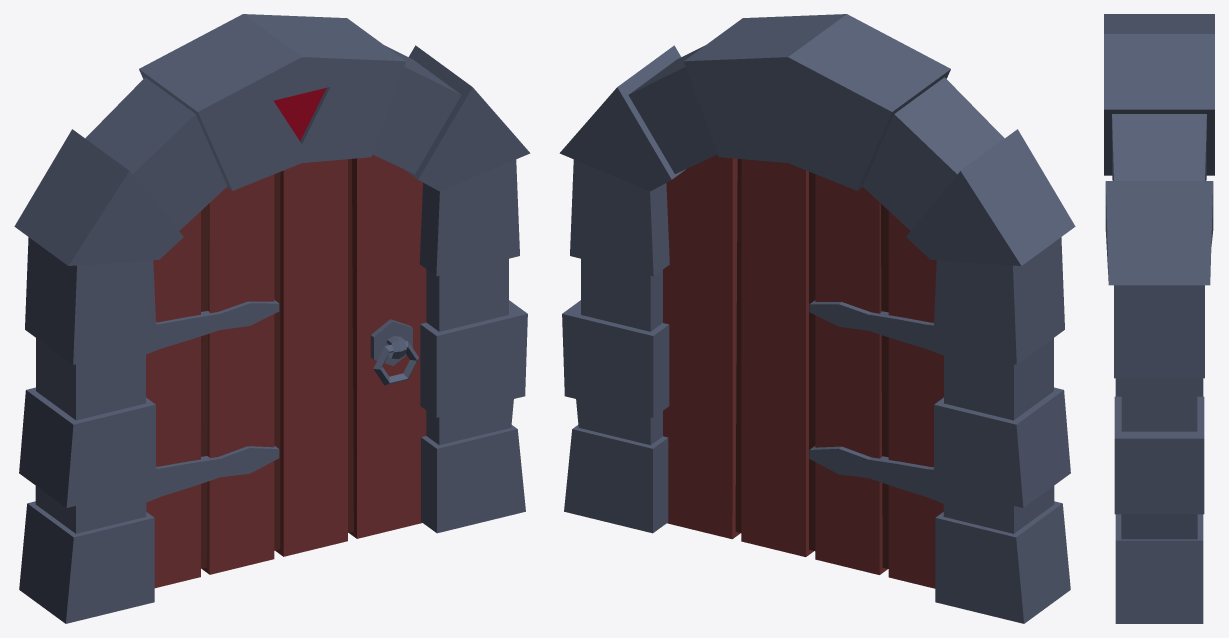
Rendered from door.fbx.
3 views of the same model, side by side, from view 1: azimuth 30°, elevation 25°; view 2: azimuth 150°, elevation 25°; view 3: azimuth 270°, elevation 25° (orthographic). The views are drawn at different scales.
Parts seen in each view (by area): view 1: door arc, door; view 2: door arc, door; view 3: door arc.
Boxes of the visible parts, left/top/right/bottom form: door arc: left=14, top=14, right=530, bottom=623; door: left=146, top=154, right=426, bottom=588; door arc: left=559, top=14, right=1075, bottom=623; door: left=663, top=154, right=943, bottom=588; door arc: left=1104, top=14, right=1214, bottom=623.
Bounding box in the file's own units: 331 × 354 × 73.09.
